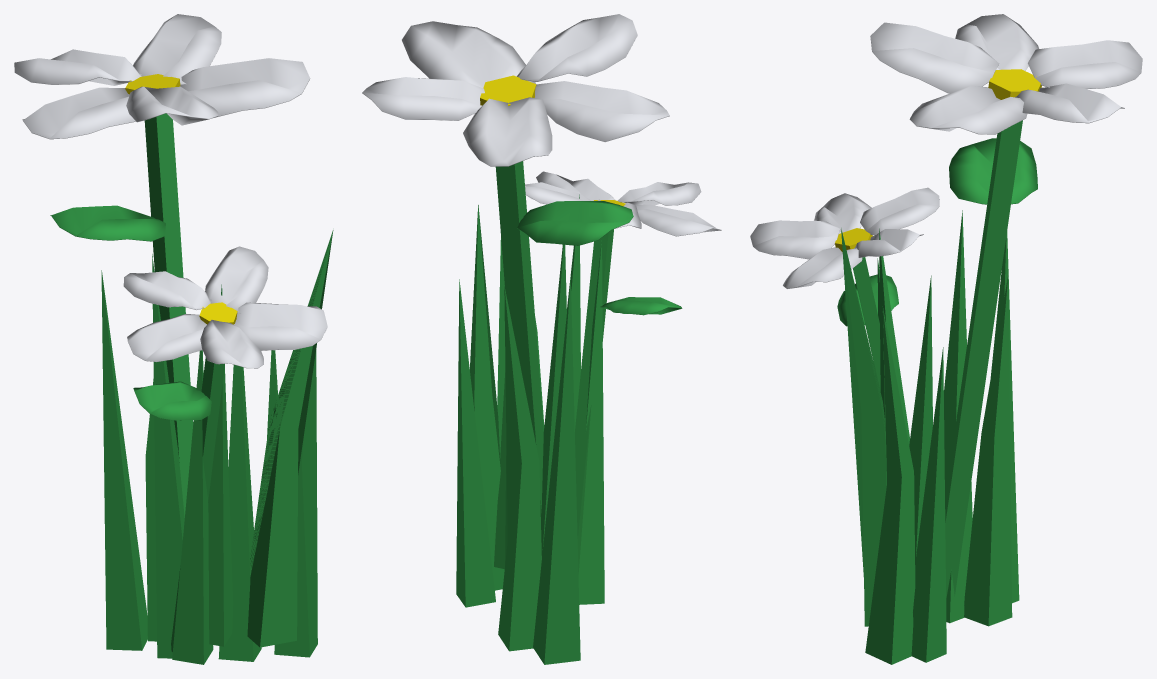
File: Flower3.fbx
3 renders of one model, left to right at view 1: azimuth 30°, elevation 25°; view 2: azimuth 150°, elevation 25°; view 3: azimuth 270°, elevation 25°, orthographic. The views are drawn at different scales.
Parts seen in each view (by area): view 1: Flower3; view 2: Flower3; view 3: Flower3.
Boxes of the visible parts, x1=… form: Flower3: x1=14, y1=14, x2=333, y2=664; Flower3: x1=362, y1=14, x2=721, y2=664; Flower3: x1=750, y1=14, x2=1142, y2=664.
Size of the model in its own units: 125 by 264 by 164.
